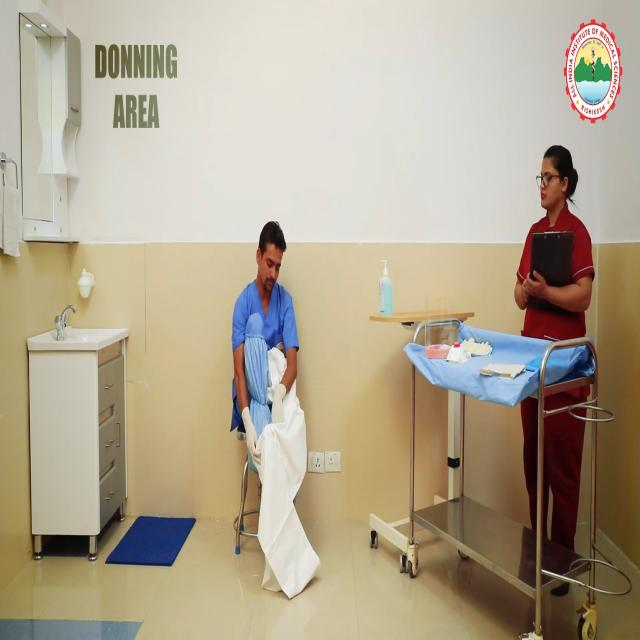Gloves: (268, 376, 292, 436), (241, 405, 262, 470)
